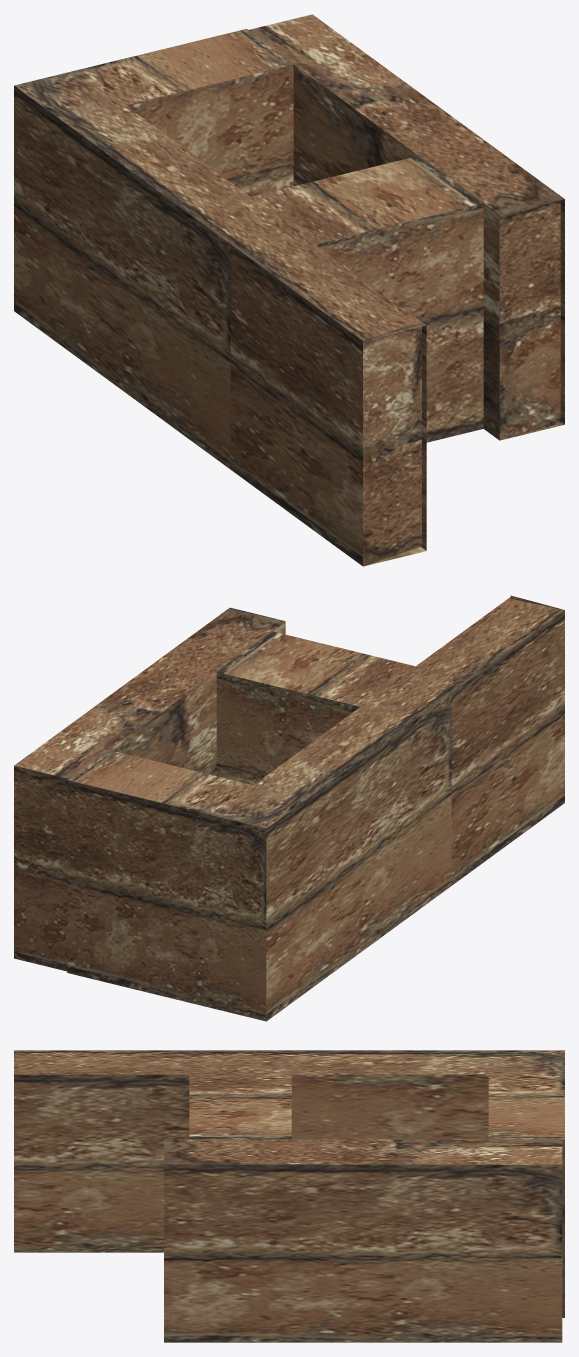
The model's file is Ladrillo6.fbx.
3 views of the same model, one above another, from view 1: azimuth 30°, elevation 25°; view 2: azimuth 150°, elevation 25°; view 3: azimuth 270°, elevation 25° (orthographic). The views are drawn at different scales.
Visible parts, largest first — view 1: Ladrillo.001; view 2: Ladrillo.001; view 3: Ladrillo.001.
Boxes of the visible parts, x1,y1,x2,y2 form: Ladrillo.001: (14, 14, 564, 566); Ladrillo.001: (14, 595, 564, 1021); Ladrillo.001: (14, 1050, 564, 1342).
Bounding box in the file's own units: 116 × 85.93 × 237.
